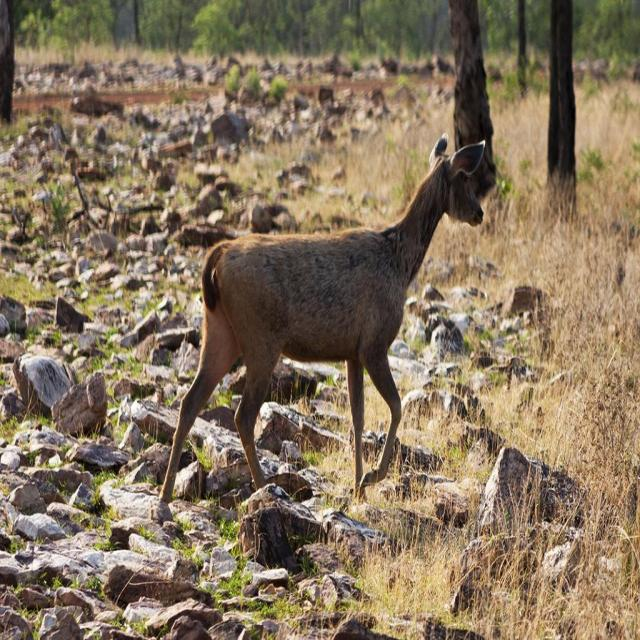Deer: (161, 136, 485, 507)
